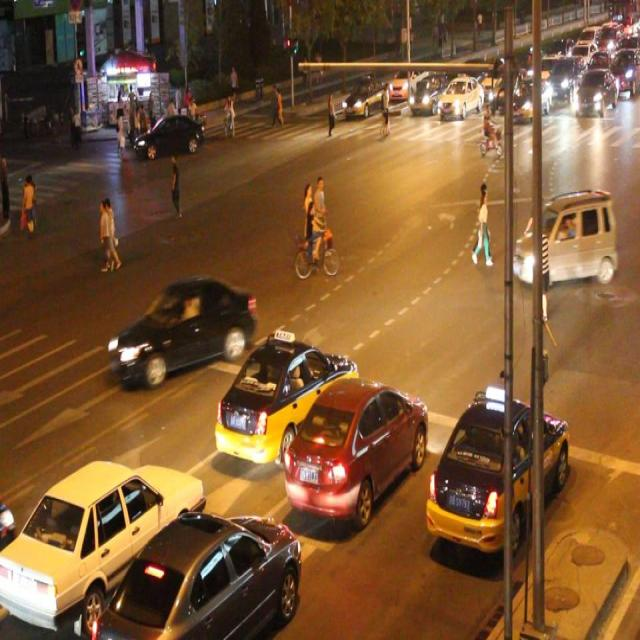car: (1, 458, 204, 630), (94, 507, 301, 640), (425, 394, 567, 554), (284, 374, 426, 521), (216, 333, 357, 463), (114, 277, 257, 384), (511, 190, 615, 284), (135, 113, 204, 158), (438, 74, 482, 118), (343, 73, 384, 119), (410, 71, 446, 113)
